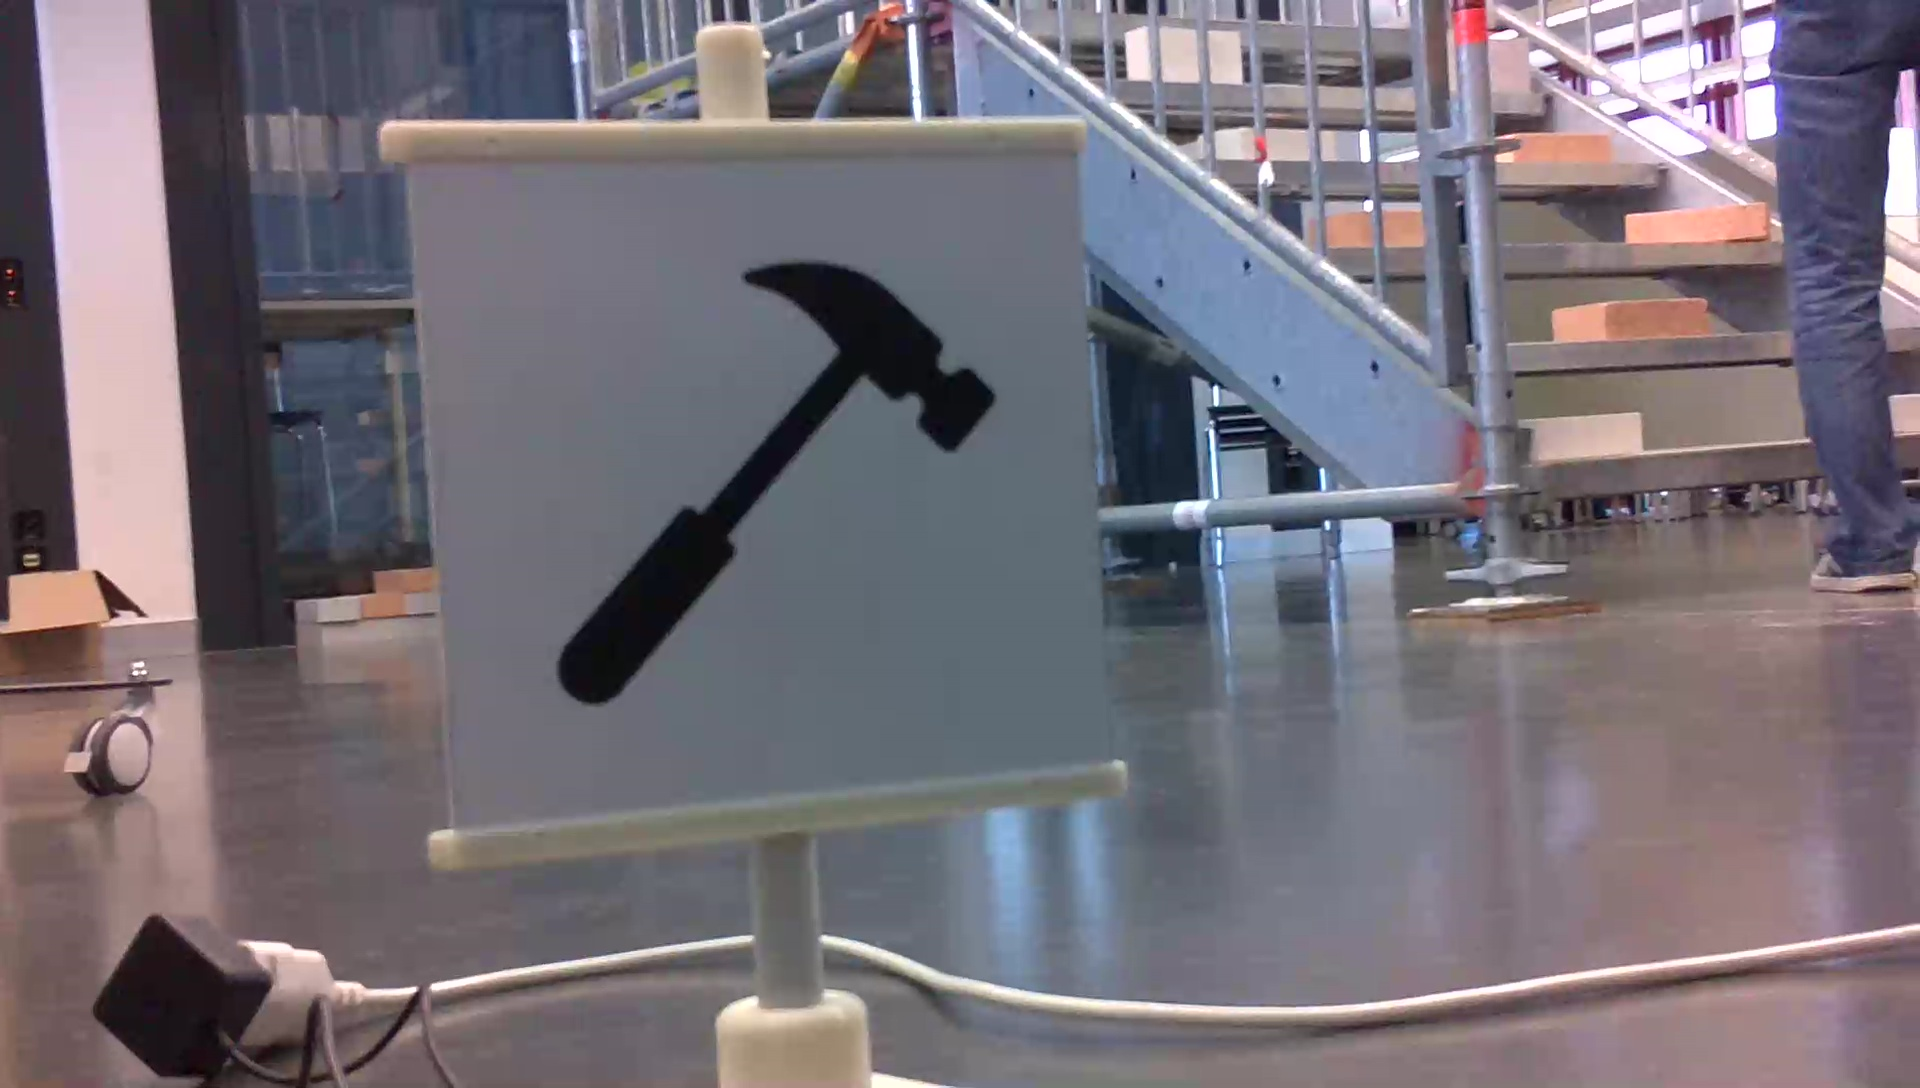brick: (1625, 200, 1768, 243), (1553, 301, 1706, 338), (1532, 415, 1640, 458), (1513, 133, 1610, 164), (1487, 38, 1527, 88)
hammer: (549, 249, 1004, 715)
